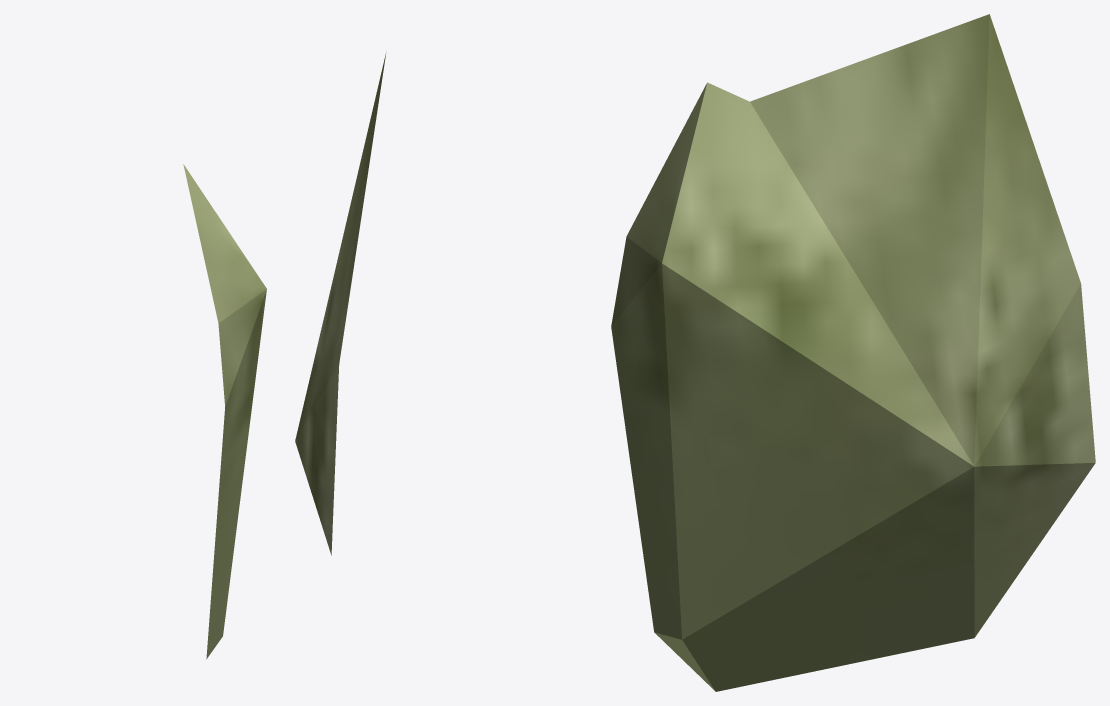
3 views of the same model, side by side, from view 1: azimuth 30°, elevation 25°; view 2: azimuth 150°, elevation 25°; view 3: azimuth 270°, elevation 25° (orthographic). The views are drawn at different scales.
Size of the model in its own units: 0.0641 by 0.4333 by 0.2807.
1 material, 1 textured.
